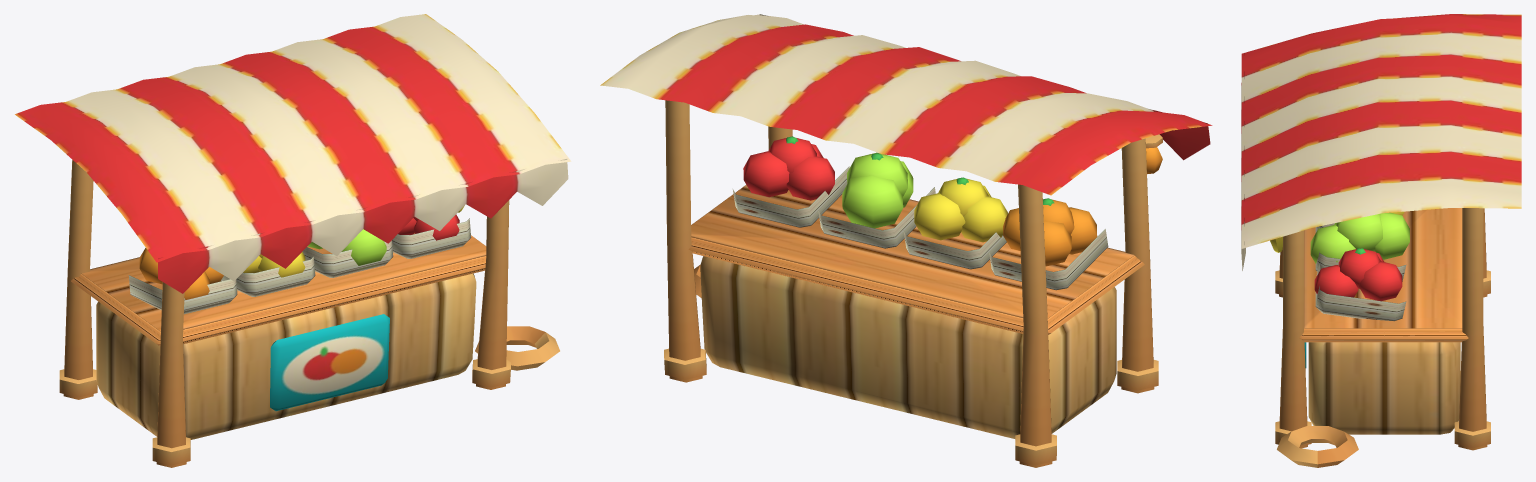
The model's file is market_stall.glb.
The picture shows the model from 3 angles, left to right: view 1: azimuth 30°, elevation 25°; view 2: azimuth 150°, elevation 25°; view 3: azimuth 270°, elevation 25°; orthographic projection. The views are drawn at different scales.
Parts seen in each view (by area): view 1: market_stall; view 2: market_stall; view 3: market_stall.
Boxes of the visible parts, x1,y1,x2,y2 form: market_stall: (15, 14, 571, 467); market_stall: (600, 14, 1212, 467); market_stall: (1241, 14, 1521, 467).
Size of the model in its own units: 2.7 by 1.71 by 1.55.
Materials: 2 (2 with a texture image).
